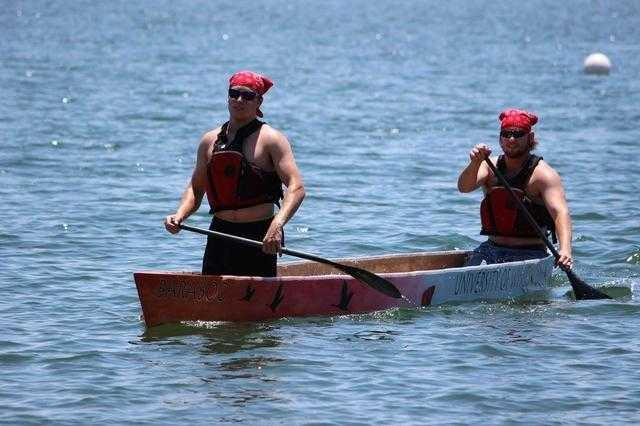kayak: (132, 249, 615, 325)
